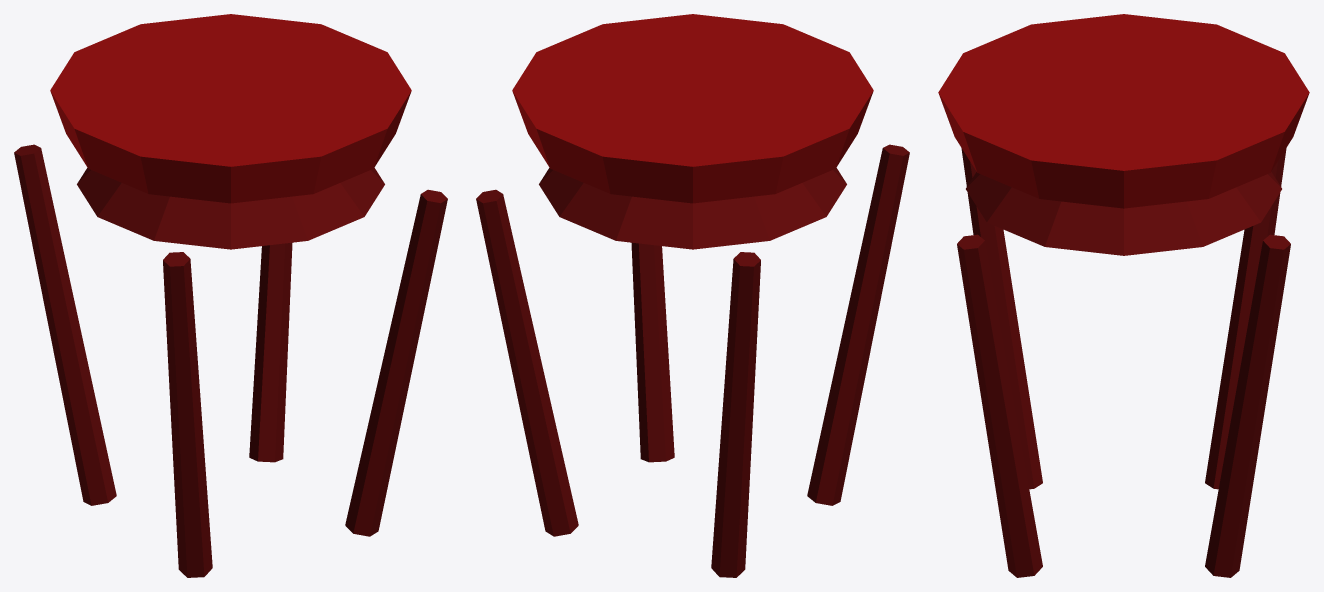
Rendered from cho_nhua.glb.
The picture shows the model from 3 angles, left to right: view 1: azimuth 30°, elevation 25°; view 2: azimuth 150°, elevation 25°; view 3: azimuth 270°, elevation 25°; orthographic projection. The views are drawn at different scales.
Bounding box in the file's own units: 0.34 × 0.442 × 0.34.
